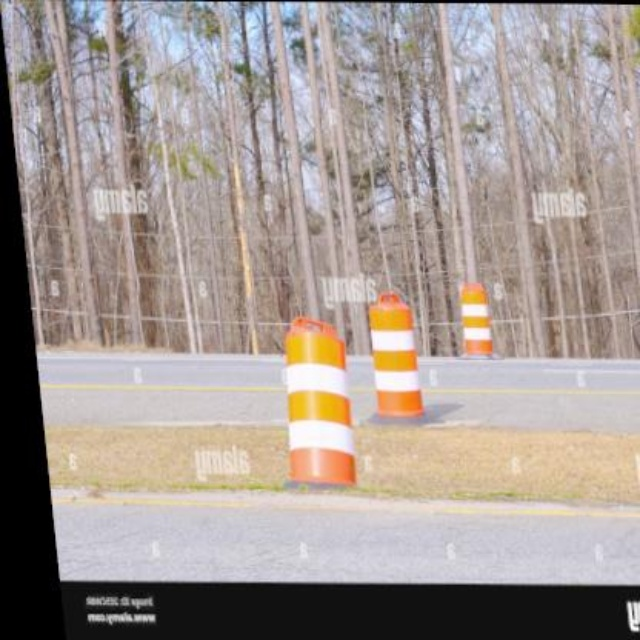obstacle: (265, 318, 354, 484), (350, 295, 419, 424), (450, 272, 491, 362)
